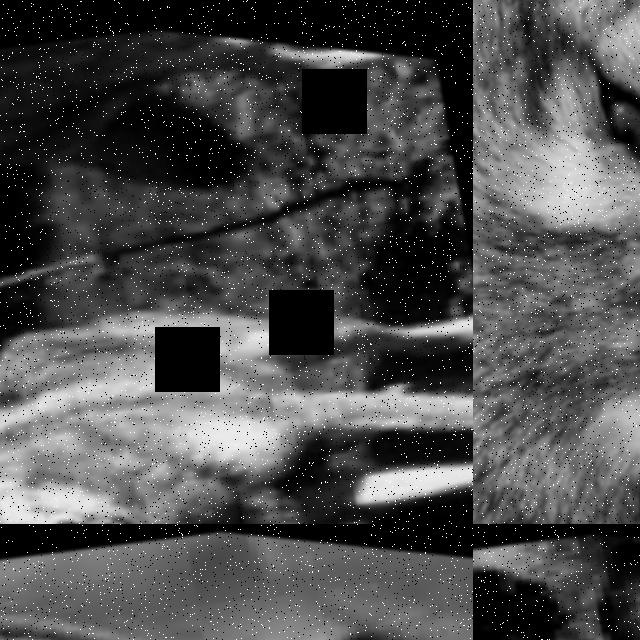dog: (0, 524, 473, 640), (473, 524, 640, 640)
wolf: (0, 164, 473, 524), (0, 0, 460, 300), (473, 0, 640, 524)
